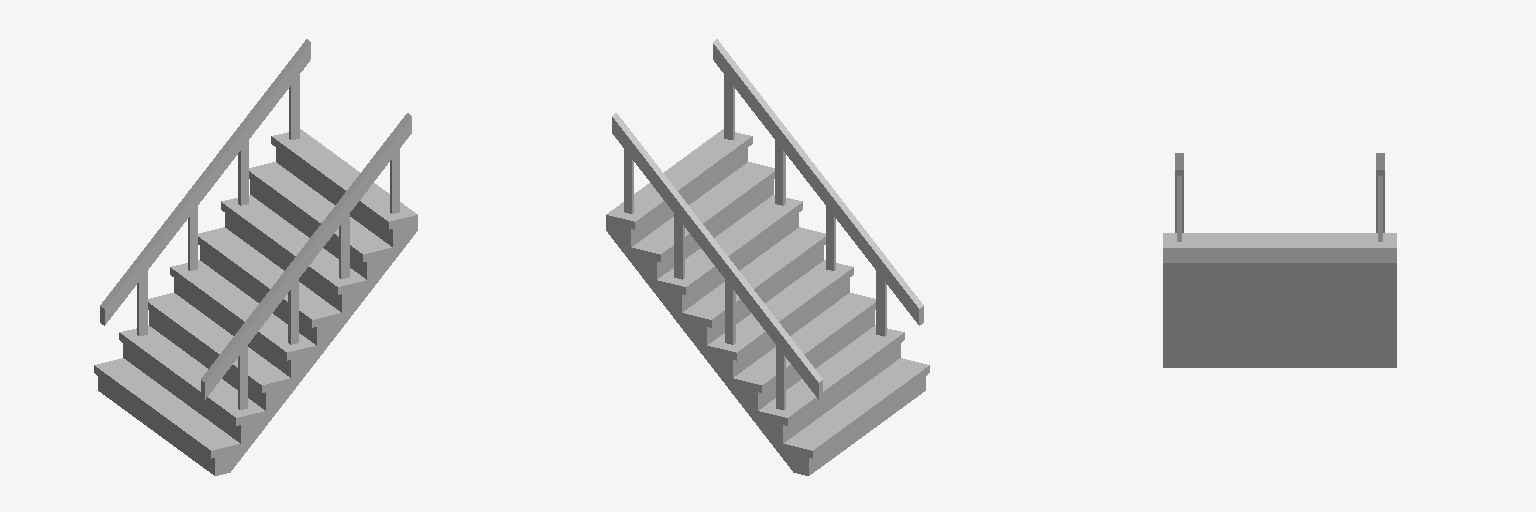
The model's file is stairs-wide-stone-handrail.obj.
The picture shows the model from 3 angles: view 1: azimuth 30°, elevation 25°; view 2: azimuth 150°, elevation 25°; view 3: azimuth 270°, elevation 25°; orthographic projection.
Visible parts, largest first — view 1: stairs-wide-stone-handrail; view 2: stairs-wide-stone-handrail; view 3: stairs-wide-stone-handrail.
Part boxes in pixels (x1,y1,x2,y2): stairs-wide-stone-handrail: (94, 39, 417, 475); stairs-wide-stone-handrail: (606, 39, 929, 475); stairs-wide-stone-handrail: (1163, 153, 1396, 367).
Size of the model in its own units: 1.02 by 1.45 by 1.